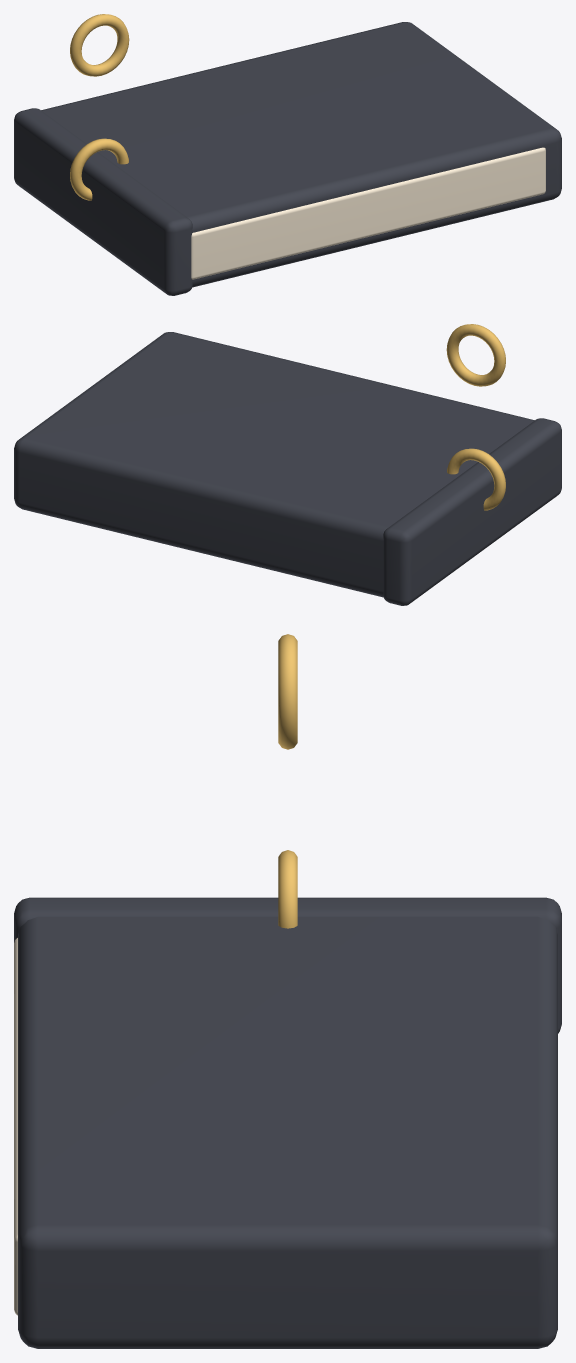
Rendered from booksRingBinderDark.glb.
3 renders of one model, top to bottom at view 1: azimuth 30°, elevation 25°; view 2: azimuth 150°, elevation 25°; view 3: azimuth 270°, elevation 25°, orthographic. The views are drawn at different scales.
Parts seen in each view (by area): view 1: Book cover, Pages, Spine, Binder ring.001, Binder ring; view 2: Book cover, Spine, Binder ring.001, Binder ring; view 3: Book cover, Spine, Binder ring.001, Binder ring, Pages.
Part boxes in pixels (x1,y1,x2,y2): Book cover: (41,22,561,287); Pages: (191,147,545,279); Spine: (14,108,192,295); Binder ring.001: (70,14,129,76); Binder ring: (70,138,128,200); Book cover: (14,332,534,597); Spine: (383,418,561,605); Binder ring.001: (446,324,505,386); Binder ring: (447,448,505,510); Book cover: (18,916,557,1348); Spine: (14,897,561,1033); Binder ring.001: (278,634,297,749); Binder ring: (278,850,297,928); Pages: (14,938,17,1315).
Bounding box in the file's own units: 1.05 × 0.543 × 0.69.
